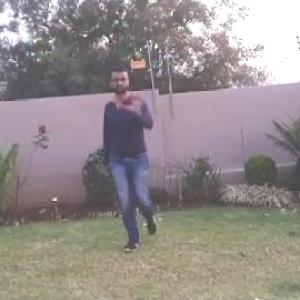follow_hand: (123, 86, 149, 116)
